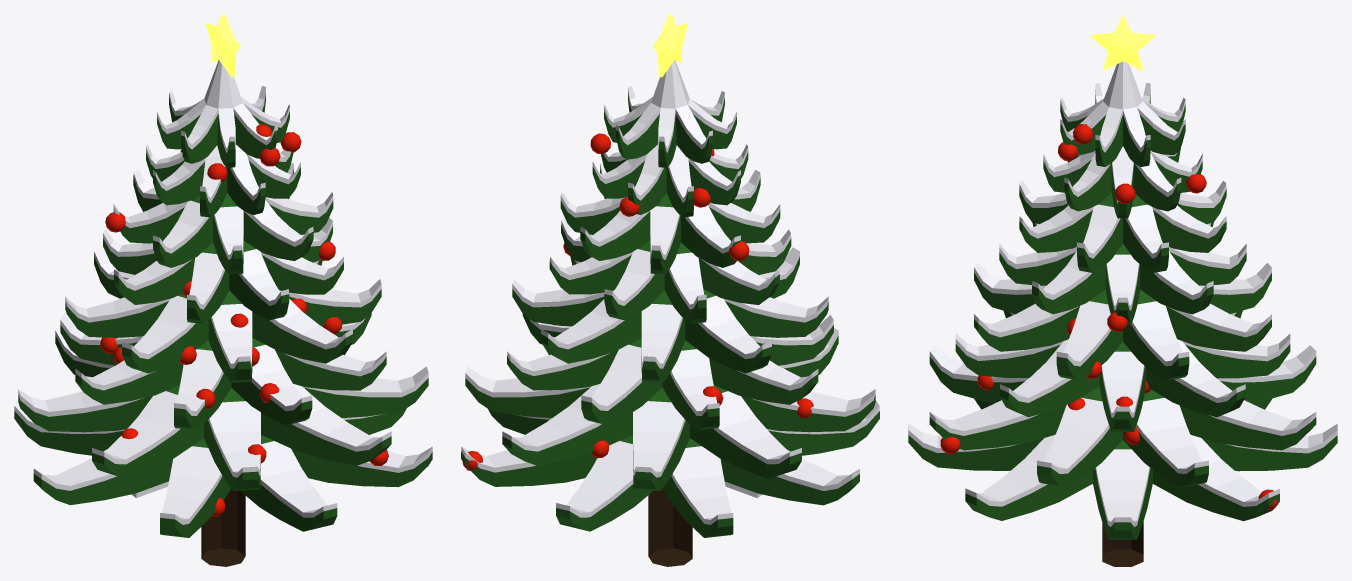
Rendered from Christmas_Tree.fbx.
The picture shows the model from 3 angles, left to right: view 1: azimuth 30°, elevation 25°; view 2: azimuth 150°, elevation 25°; view 3: azimuth 270°, elevation 25°; orthographic projection.
Visible parts, largest first — view 1: Tree, Tree.001, Cylinder; view 2: Tree, Tree.001, Cylinder; view 3: Tree, Tree.001, Cylinder.
Boxes of the visible parts, x1,y1,x2,y2 form: Tree: [14, 93, 432, 566]; Tree.001: [14, 60, 432, 524]; Cylinder: [206, 14, 240, 77]; Tree: [461, 93, 879, 566]; Tree.001: [461, 60, 879, 524]; Cylinder: [653, 14, 687, 77]; Tree: [908, 94, 1337, 566]; Tree.001: [908, 61, 1337, 526]; Cylinder: [1091, 14, 1155, 70].
Size of the model in its own units: 420 by 587 by 420.
